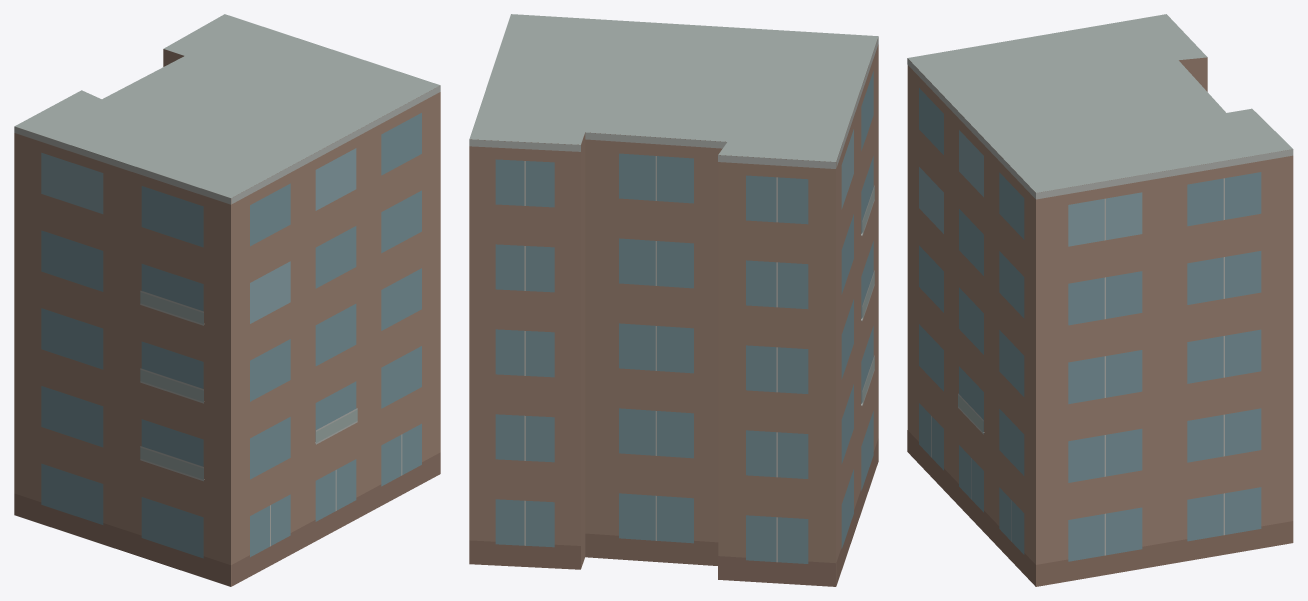
File: survey-upis-32862104.glb
3 renders of one model, left to right at view 1: azimuth 30°, elevation 25°; view 2: azimuth 150°, elevation 25°; view 3: azimuth 270°, elevation 25°, orthographic. The views are drawn at different scales.
Parts seen in each view (by area): view 1: survey-upis-32862104.tmp; view 2: survey-upis-32862104.tmp; view 3: survey-upis-32862104.tmp.
Boxes of the visible parts, bbox=[...] form: survey-upis-32862104.tmp: bbox=[14, 14, 440, 586]; survey-upis-32862104.tmp: bbox=[469, 14, 878, 586]; survey-upis-32862104.tmp: bbox=[907, 14, 1293, 586].
Bounding box in the file's own units: 14.33 × 14.7 × 13.06.
